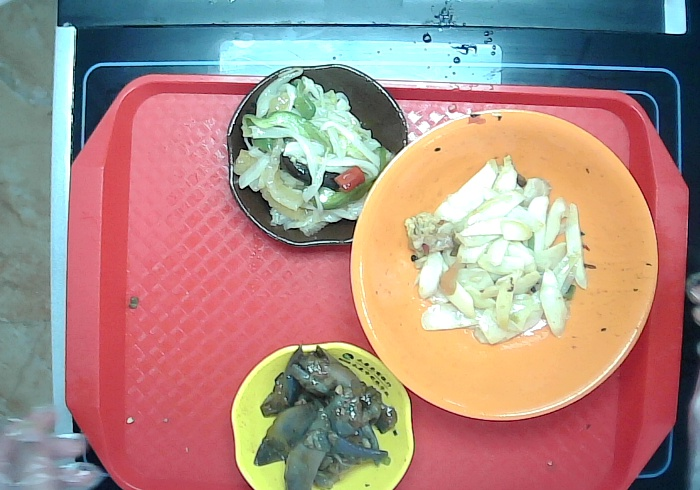YKMZ-Huang_Se_Ao_Bian_Wan: (221, 333, 424, 490)
YKMZ-Ju_Se_Tang_Wan: (339, 102, 666, 426)
YKMZ-Ka_Fei_Ao_Bian_Wan: (219, 54, 416, 260)
